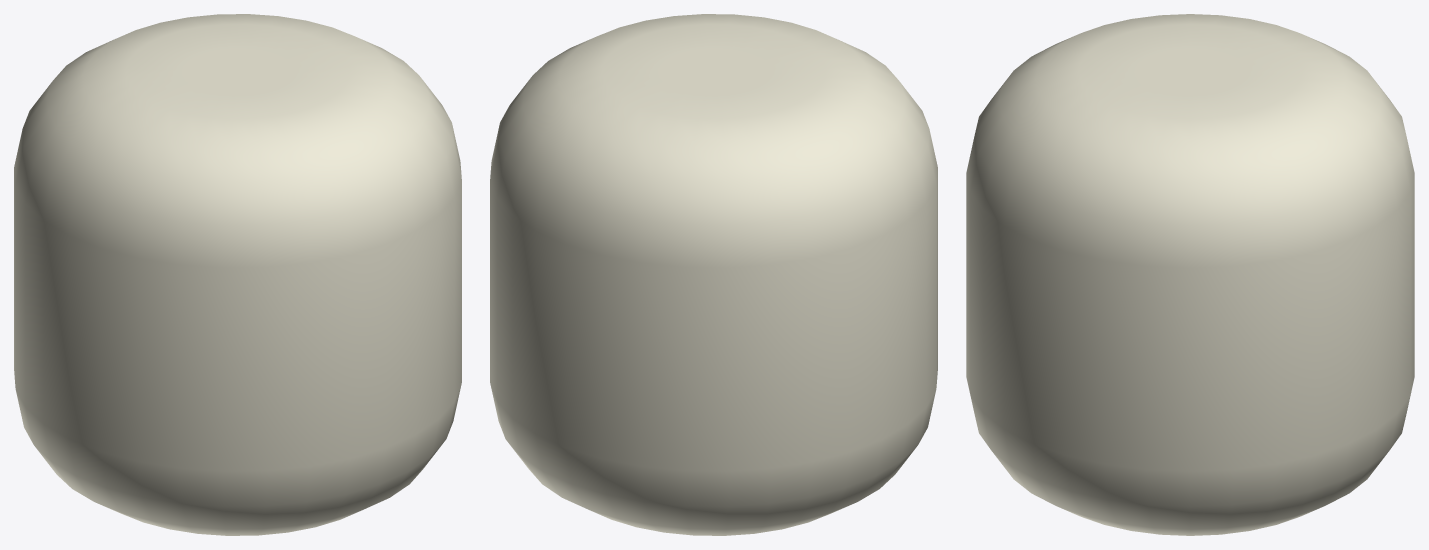
File: Shape_WideCapsule.glb
3 renders of one model, left to right at view 1: azimuth 30°, elevation 25°; view 2: azimuth 150°, elevation 25°; view 3: azimuth 270°, elevation 25°, orthographic.
Visible parts, largest first — view 1: Shape_WideCapsule; view 2: Shape_WideCapsule; view 3: Shape_WideCapsule.
Part boxes in pixels (x1=…): Shape_WideCapsule: x1=14, y1=14, x2=461, y2=535; Shape_WideCapsule: x1=490, y1=14, x2=937, y2=535; Shape_WideCapsule: x1=966, y1=14, x2=1414, y2=535.
Size of the model in its own units: 1 by 1 by 1.
